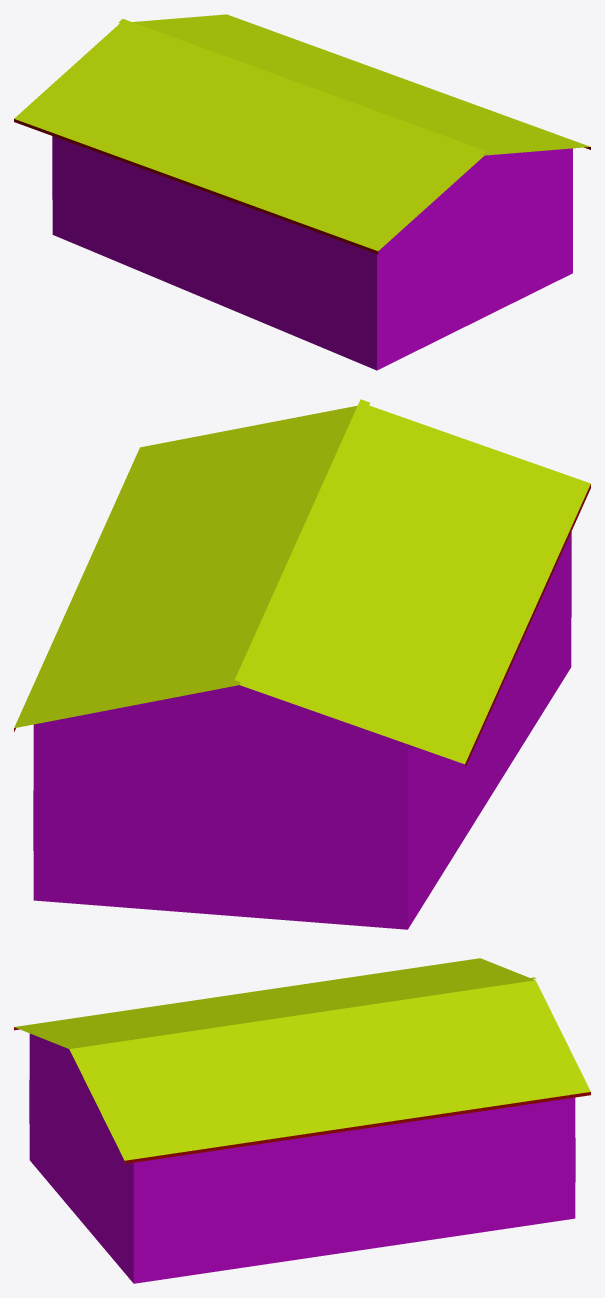
File: svc_50.glb
3 views of the same model, one above another, from view 1: azimuth 30°, elevation 25°; view 2: azimuth 150°, elevation 25°; view 3: azimuth 270°, elevation 25° (orthographic). The views are drawn at different scales.
Visible parts, largest first — view 1: svc_50; view 2: svc_50; view 3: svc_50.
Boxes of the visible parts, x1=… form: svc_50: x1=14, y1=14, x2=590, y2=370; svc_50: x1=14, y1=399, x2=590, y2=929; svc_50: x1=14, y1=958, x2=590, y2=1283.
Bounding box in the file's own units: 15.71 × 6.43 × 18.9.
